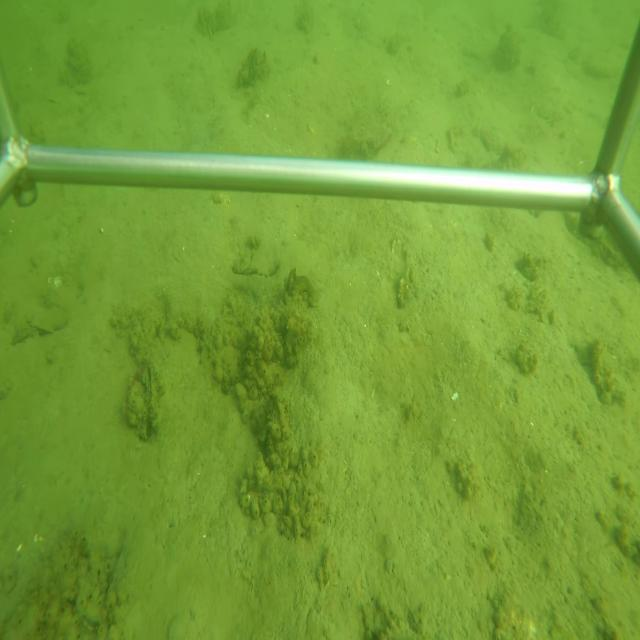Oyster-Closed: (142, 363, 158, 430)
Oyster-Indeterminate: (229, 244, 277, 276)
